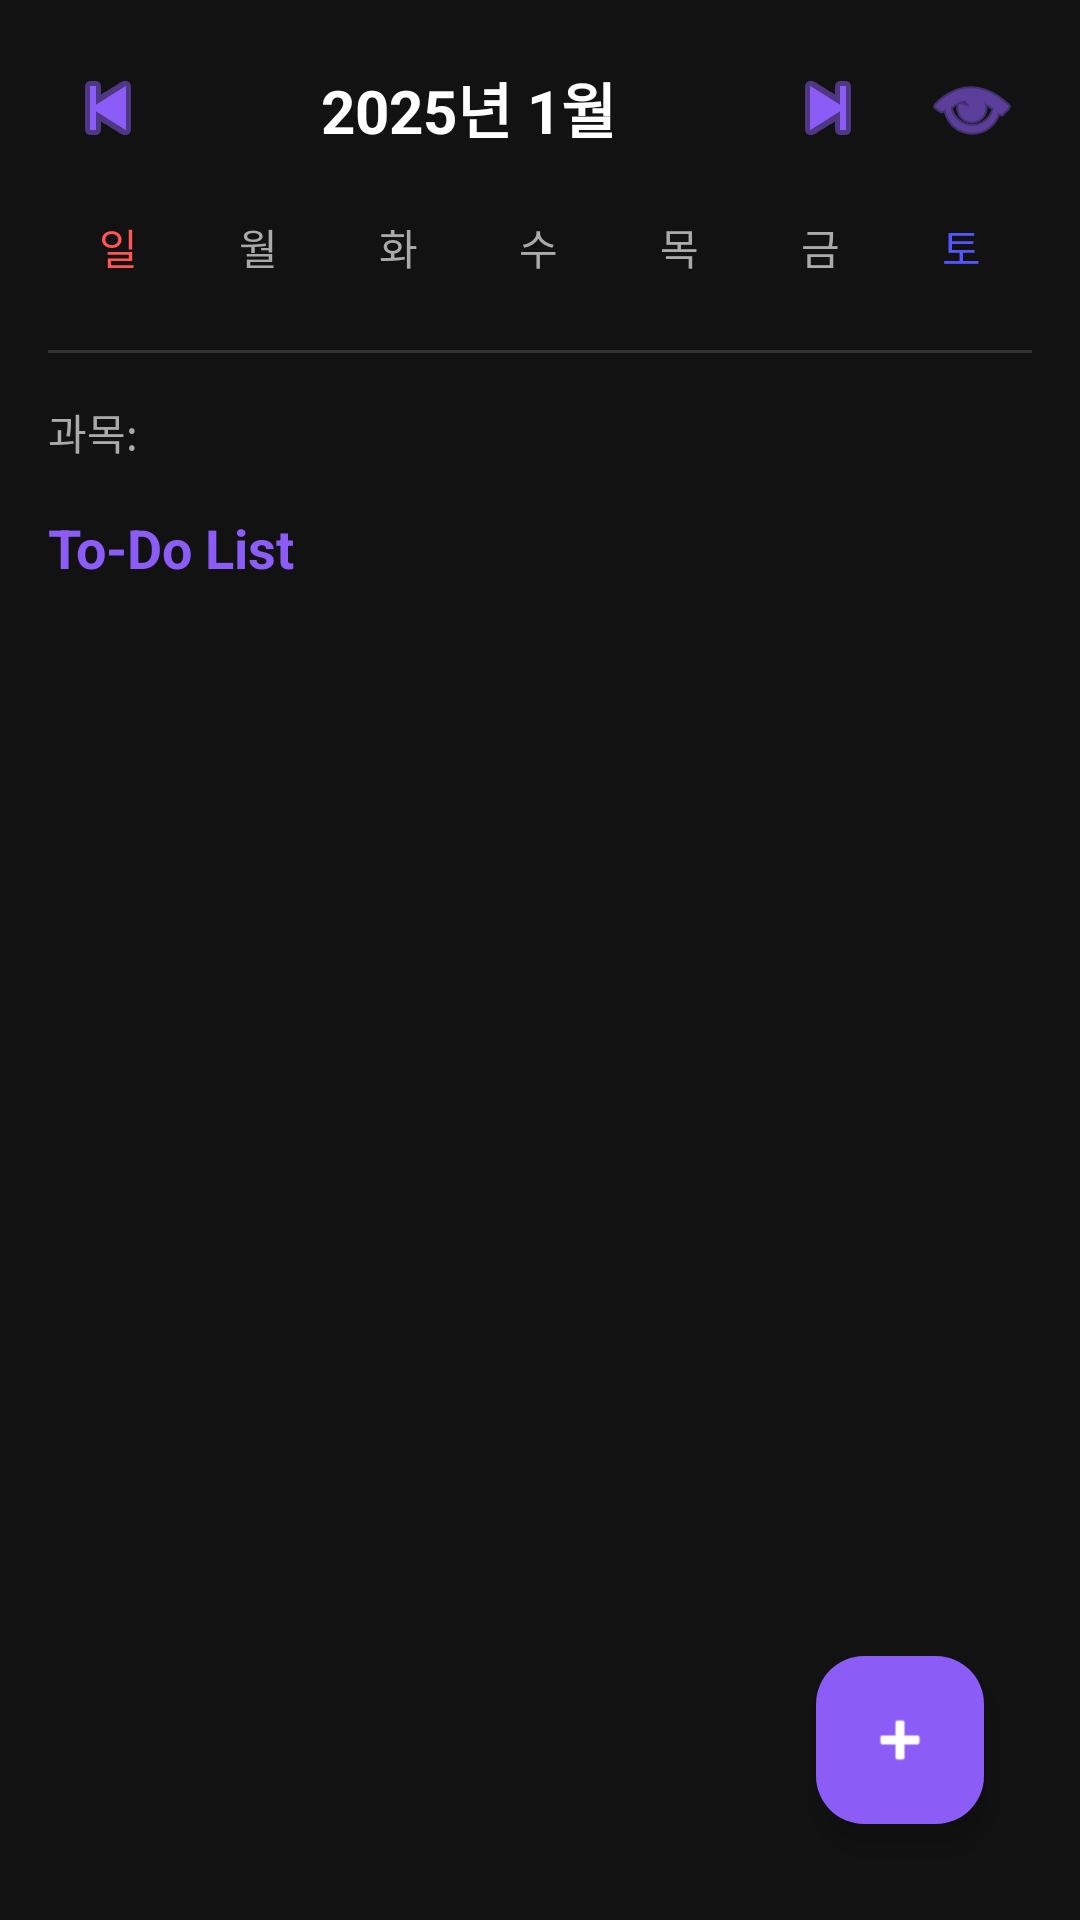

Icons on this 1080w x 1920h Android screen, each with the point to tap as [x,y]:
다음 달: [828,108]
이전 달: [108,108]
캘린더 뷰 전환: [972,110]
투두 추가: [900,1740]
